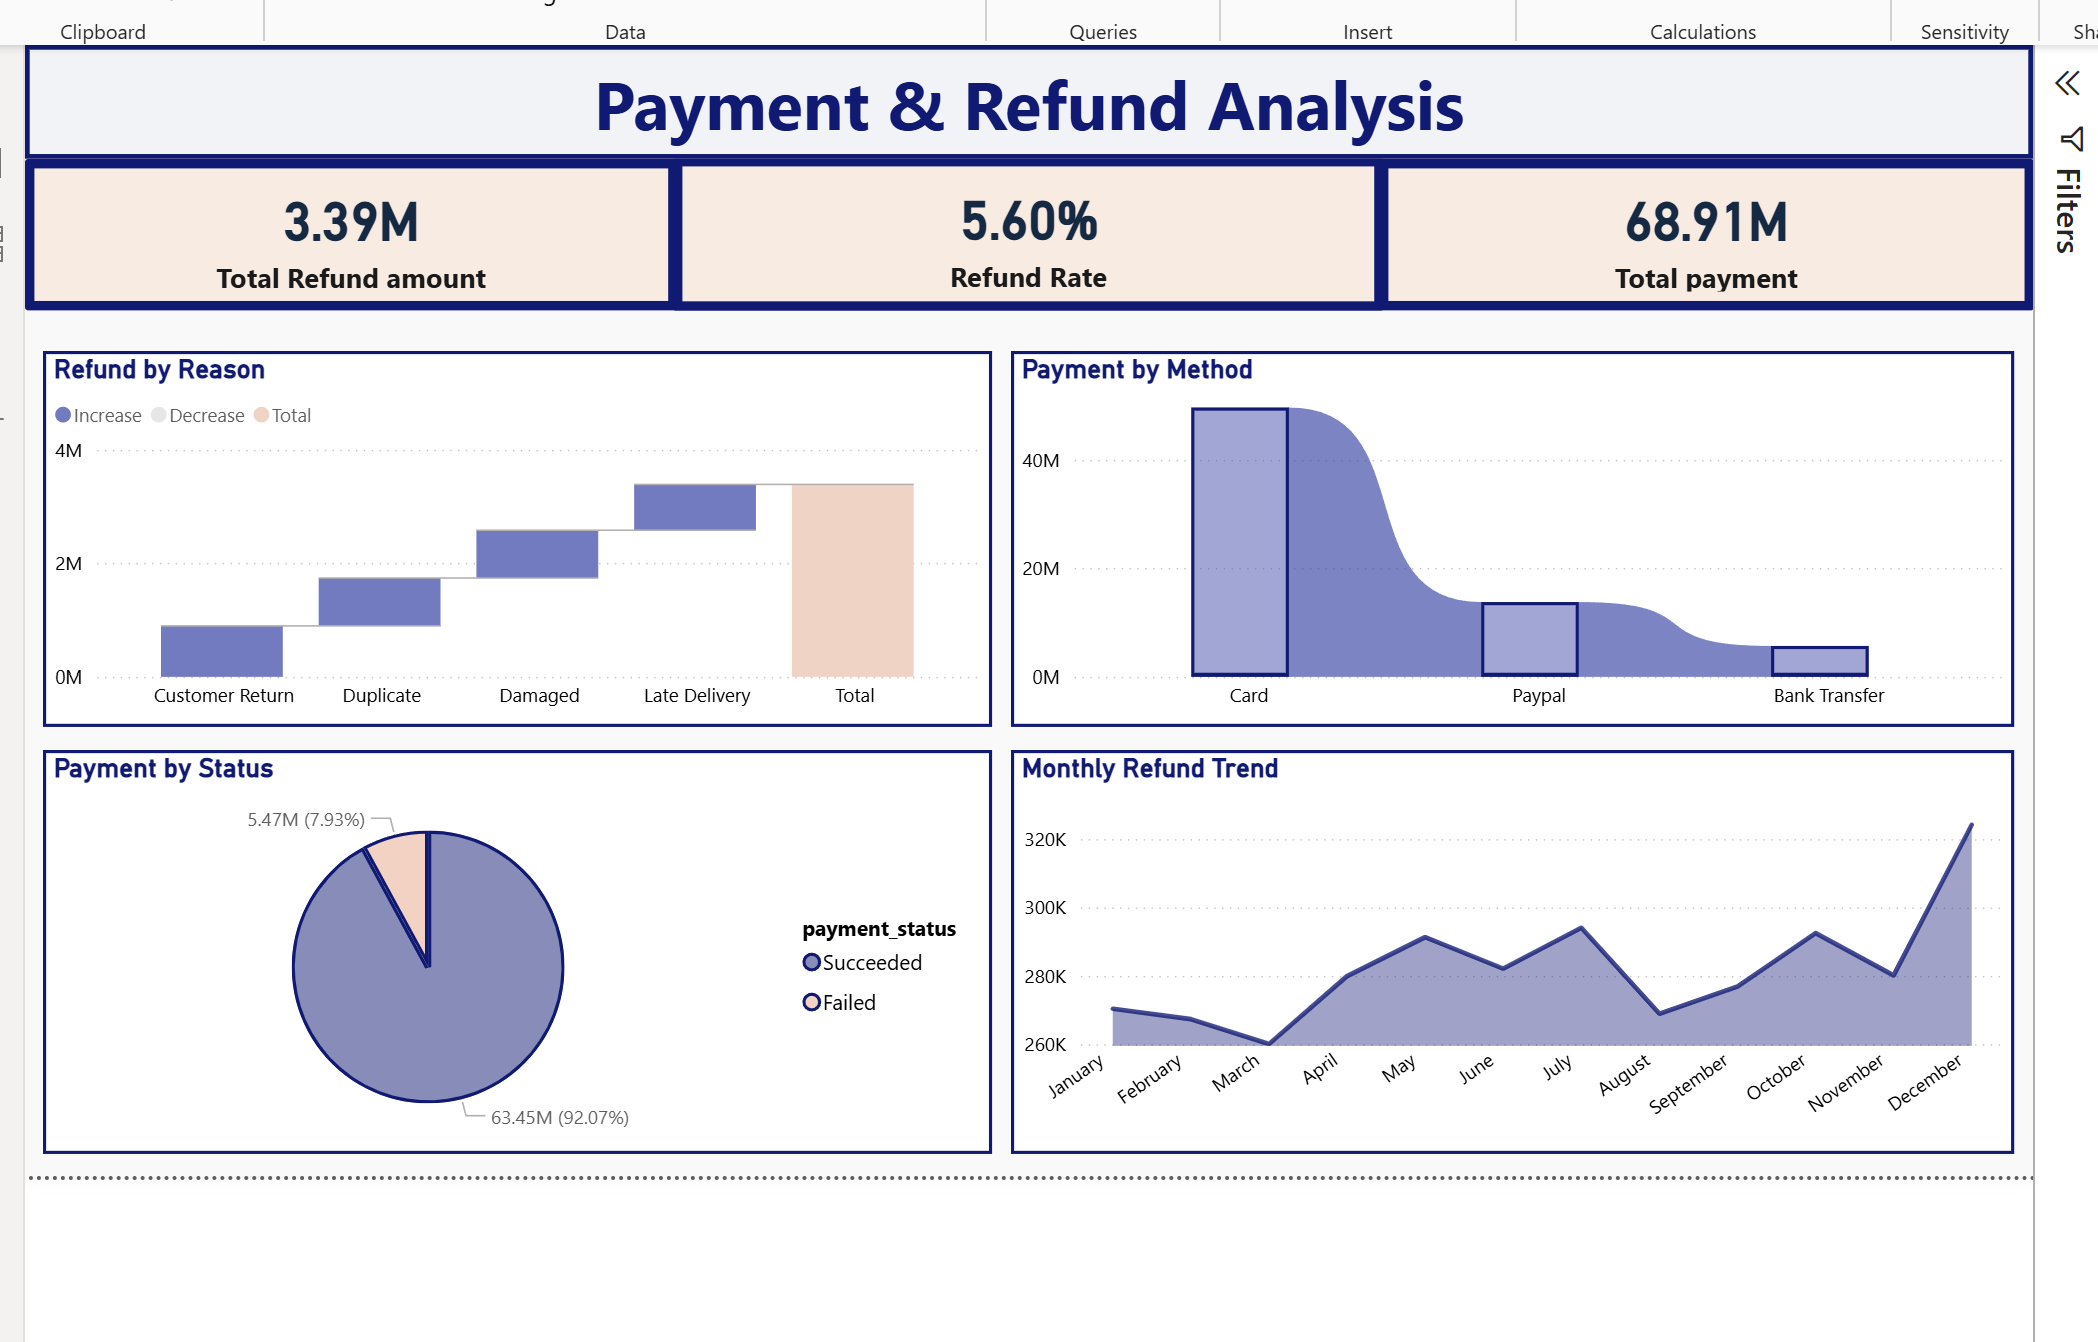

The page's visual inventory and layout, read from the dashboard file:
{"tool":"powerbi","page":{"name":"Payment & Refund Analysis","canvas":[1280,720],"ordinal":2},"visuals":[{"type":"card","fields":{"Values":["refunds.Total Refund amount"]},"box":[0,72.7,416.1,96.4],"z":0},{"type":"card","fields":{"Values":["refunds.Refund Rate"]},"box":[413.4,72,453.2,98],"z":1000},{"type":"card","fields":{"Values":["payments.Total payment"]},"box":[862.6,72.7,417.4,96.4],"z":2000},{"type":"ribbonChart","title":"Payment by Method","fields":{"Category":["payments.payment_method"],"Y":["payments.Total payment"]},"box":[628.8,195.5,639.3,239.1],"z":3000},{"type":"waterfallChart","title":"Refund by Reason","fields":{"Category":["refunds.refund_reason"],"Y":["refunds.Total Refund amount"]},"box":[11.9,195.5,605,239.1],"z":4000},{"type":"areaChart","title":"Monthly Refund Trend","fields":{"Category":["refunds.refunded_at.Variation.Date Hierarchy.Month"],"Y":["refunds.Total Refund amount"]},"box":[628.8,449.1,639.3,257.6],"z":5000},{"type":"pieChart","title":"Payment by Status","fields":{"Category":["payments.payment_status"],"Y":["payments.Total payment"]},"box":[11.9,449.1,605,257.6],"z":6000},{"type":"textbox","box":[0,0,1280,72.7],"z":7000}]}

Visuals, with their boxes in screenshot pixels (x1, y1, x2, y2):
card - refunds.Total Refund amount: box=[27, 152, 676, 302]
card - refunds.Refund Rate: box=[672, 150, 1378, 303]
card - payments.Total payment: box=[1372, 152, 2023, 302]
"Payment by Method" ribbonChart: box=[1008, 343, 2004, 716]
"Refund by Reason" waterfallChart: box=[46, 343, 989, 716]
"Monthly Refund Trend" areaChart: box=[1008, 738, 2004, 1140]
"Payment by Status" pieChart: box=[46, 738, 989, 1140]
textbox: box=[27, 38, 2023, 152]
